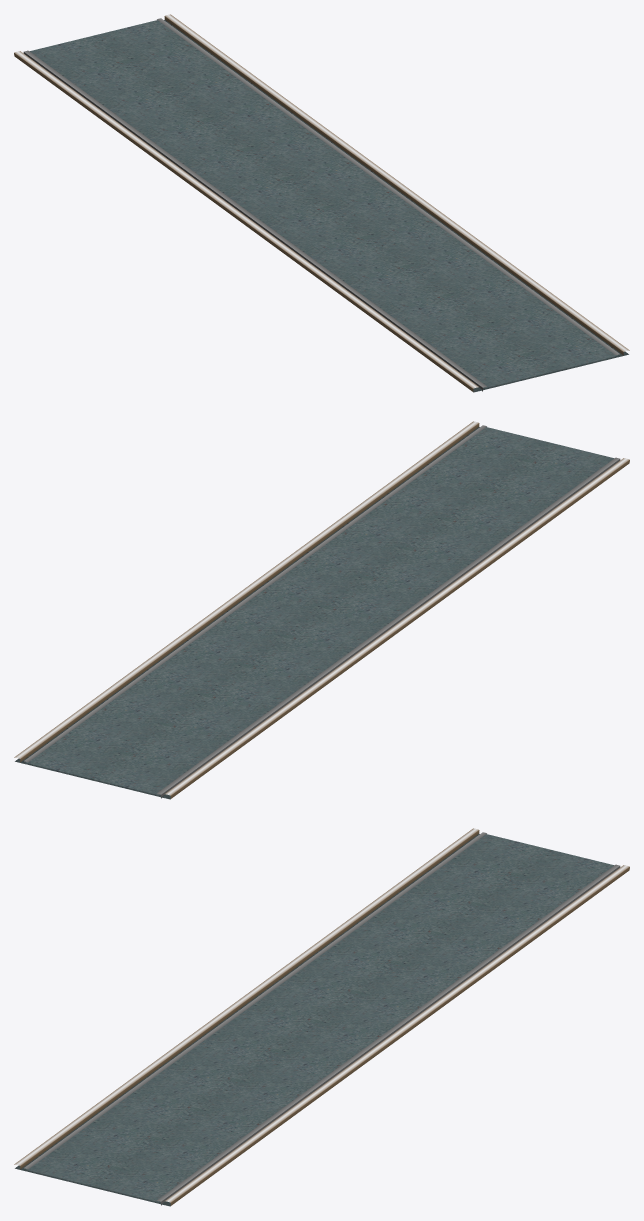
Rendered from K_RO_1RAIL25.glb.
The picture shows the model from 3 angles, top to bottom: view 1: azimuth 30°, elevation 25°; view 2: azimuth 150°, elevation 25°; view 3: azimuth 330°, elevation 25°; orthographic projection.
Visible parts, largest first — view 1: obj1; view 2: obj1; view 3: obj1.
Part boxes in pixels (box(x1,y1,x2,y2)): obj1: box(14, 14, 629, 392); obj1: box(14, 421, 629, 799); obj1: box(14, 828, 629, 1206).
Bounding box in the file's own units: 4.93 × 0.1692 × 25.
Materials: 2 (2 with a texture image).
